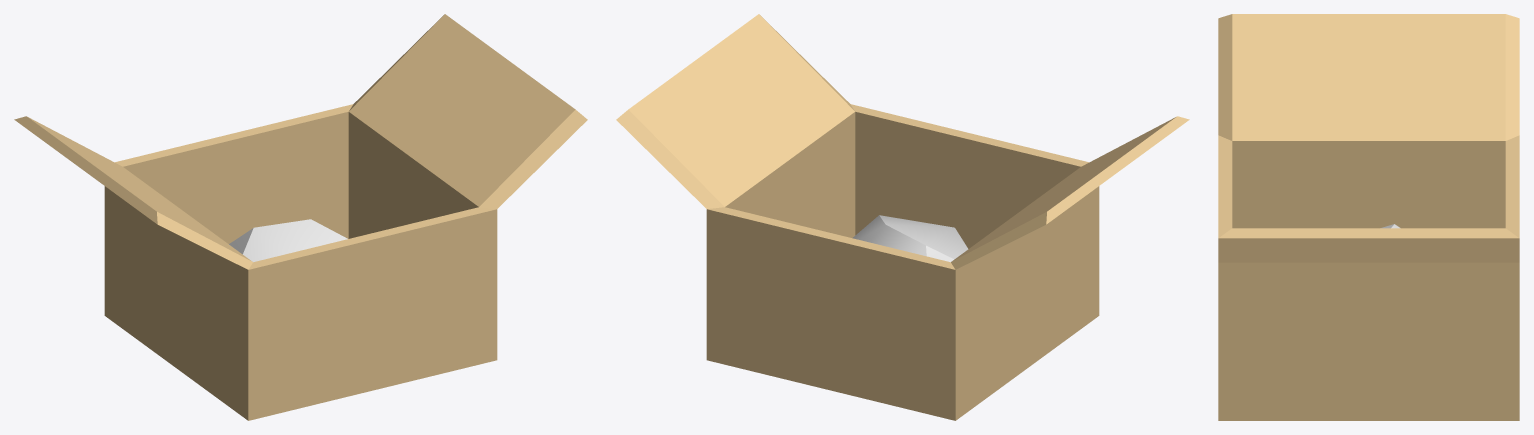
Rendered from BoxedRock.fbx.
The picture shows the model from 3 angles, left to right: view 1: azimuth 30°, elevation 25°; view 2: azimuth 150°, elevation 25°; view 3: azimuth 270°, elevation 25°; orthographic projection. The views are drawn at different scales.
Parts seen in each view (by area): view 1: CardboardBox, Rock.001; view 2: CardboardBox, Rock.001; view 3: CardboardBox.
Boxes of the visible parts, x1,y1,x2,y2 form: CardboardBox: (14,14,587,420); Rock.001: (229,219,347,262); CardboardBox: (616,14,1189,420); Rock.001: (852,215,968,262); CardboardBox: (1218,14,1519,420).
Bounding box in the file's own units: 68.97 × 34.51 × 39.9.
